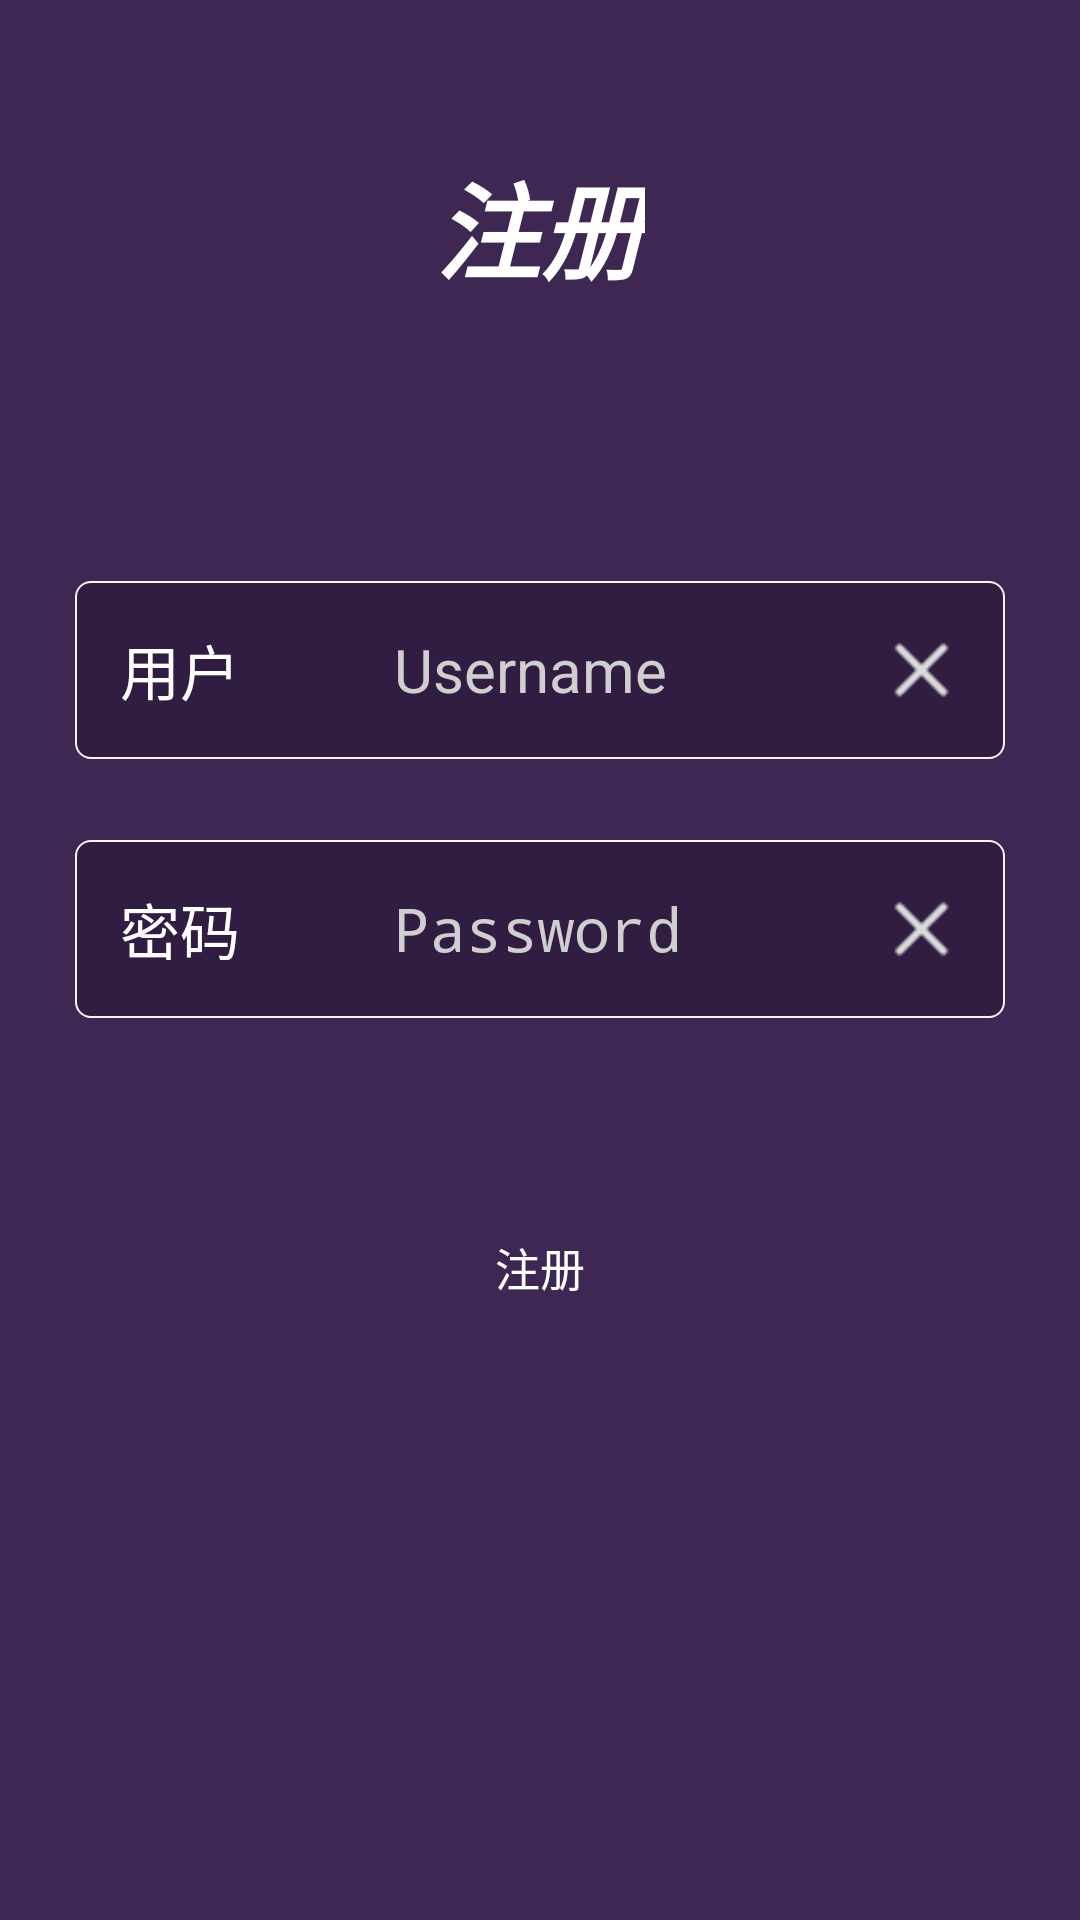

Screen size 1080w x 1920h. Icon name, then its center in pixels as (x=x, y=y):
delete: (x=921, y=670), (x=921, y=929)
